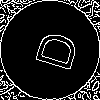D: (25, 25, 80, 74)
